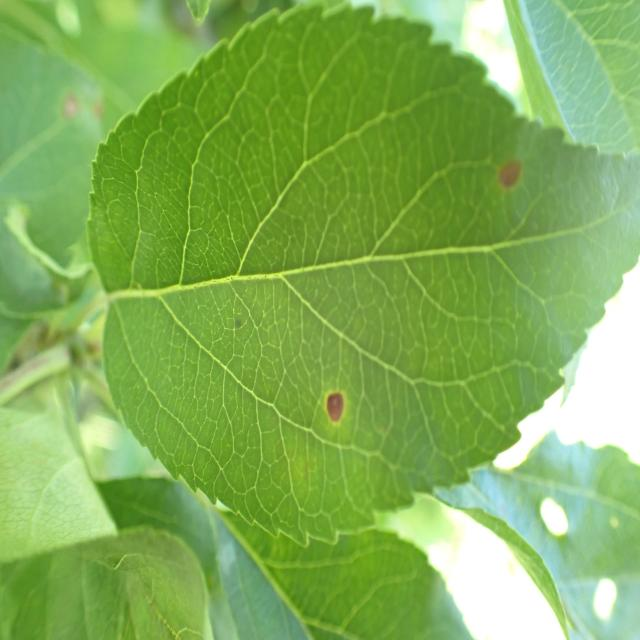Black Rot: (487, 134, 530, 210), (38, 82, 88, 136), (316, 366, 350, 432)
